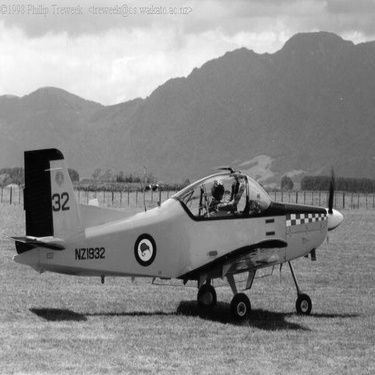airplane: (17, 118, 330, 326)
